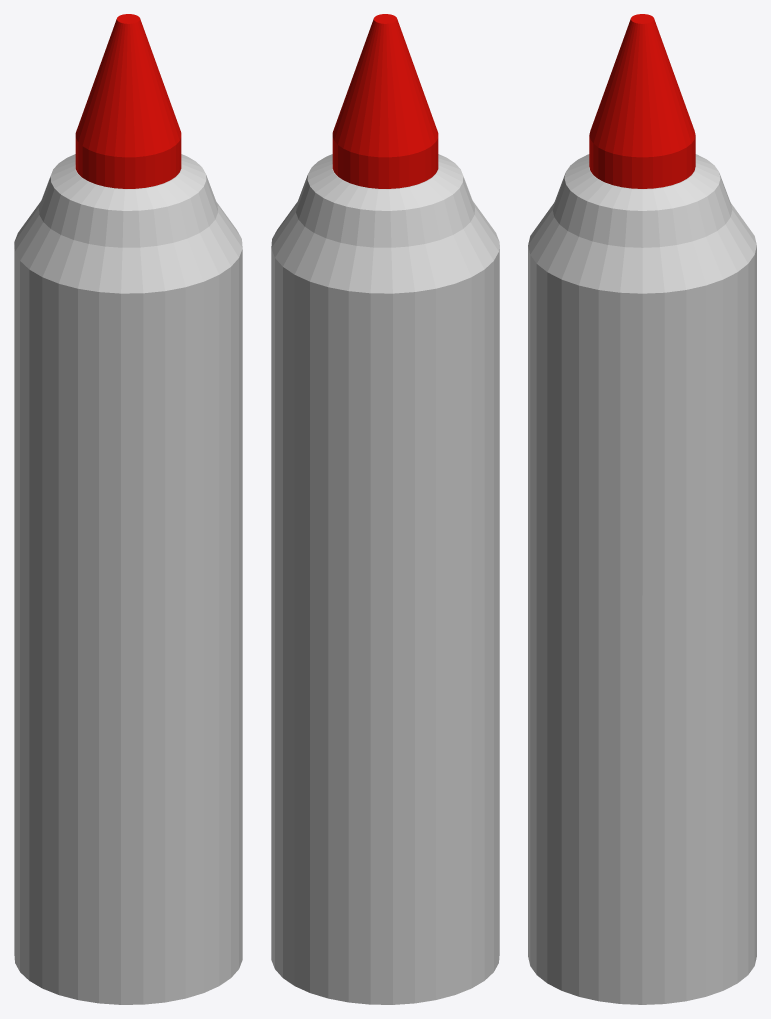
The model's file is Marker.fbx.
The picture shows the model from 3 angles, left to right: view 1: azimuth 30°, elevation 25°; view 2: azimuth 150°, elevation 25°; view 3: azimuth 270°, elevation 25°; orthographic projection.
Visible parts, largest first — view 1: Cylinder; view 2: Cylinder; view 3: Cylinder.
Boxes of the visible parts, x1,y1,x2,y2 form: Cylinder: (14,14,242,1004); Cylinder: (271,14,499,1004); Cylinder: (528,14,756,1004).
Size of the model in its own units: 35.93 by 162 by 35.93.
